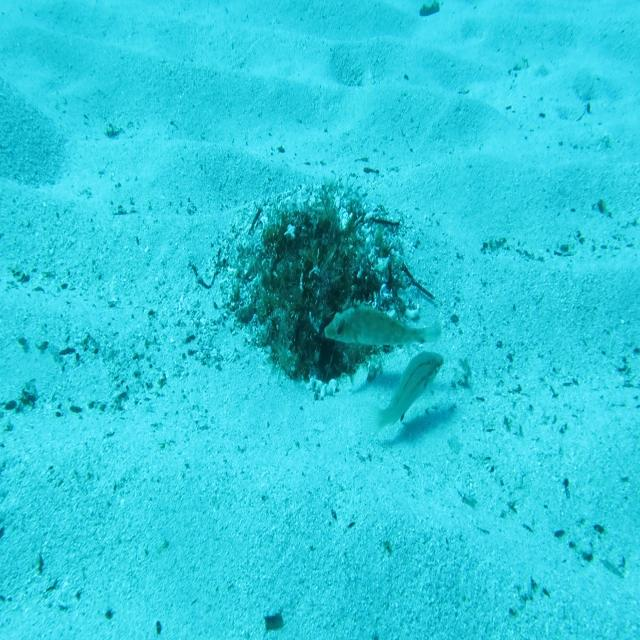ROLL: (324, 295, 444, 351)
core_nest: (287, 220, 337, 273)
female: (358, 347, 446, 451)
nest: (210, 160, 433, 414)
vegetation: (263, 609, 285, 631), (418, 0, 442, 20)
